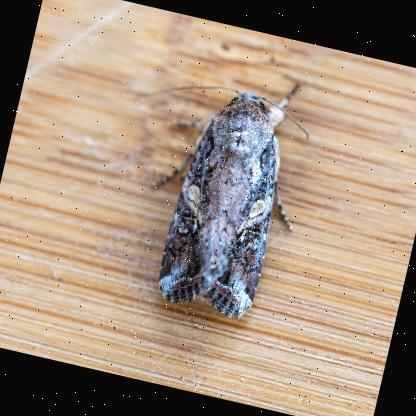Fall Armyworm Moth: (121, 52, 327, 330)
